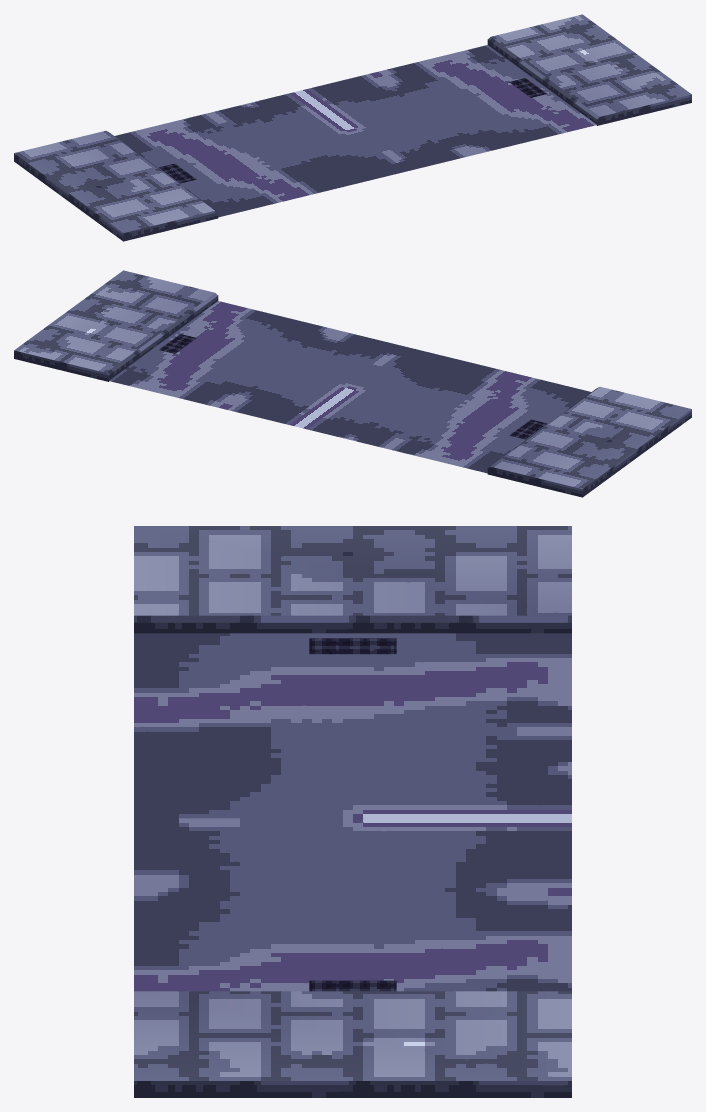
The model's file is cystreet.road__short.glb.
3 renders of one model, top to bottom at view 1: azimuth 30°, elevation 25°; view 2: azimuth 150°, elevation 25°; view 3: azimuth 270°, elevation 25°, orthographic. The views are drawn at different scales.
Visible parts, largest first — view 1: kit_shell_road, kit_walks, kit_card_paint; view 2: kit_shell_road, kit_walks, kit_card_paint; view 3: kit_shell_road, kit_walks, kit_card_paint.
Boxes of the visible parts, <box> form: kit_shell_road: <box>115,45,596,217</box>; kit_walks: <box>14,14,691,241</box>; kit_card_paint: <box>159,78,546,183</box>; kit_shell_road: <box>109,301,590,473</box>; kit_walks: <box>14,270,691,497</box>; kit_card_paint: <box>159,334,546,439</box>; kit_shell_road: <box>134,633,571,991</box>; kit_walks: <box>134,526,571,1097</box>; kit_card_paint: <box>309,638,396,991</box>.
Size of the model in its own units: 12 by 0.17 by 4.
Materials: 4 (4 with a texture image).
